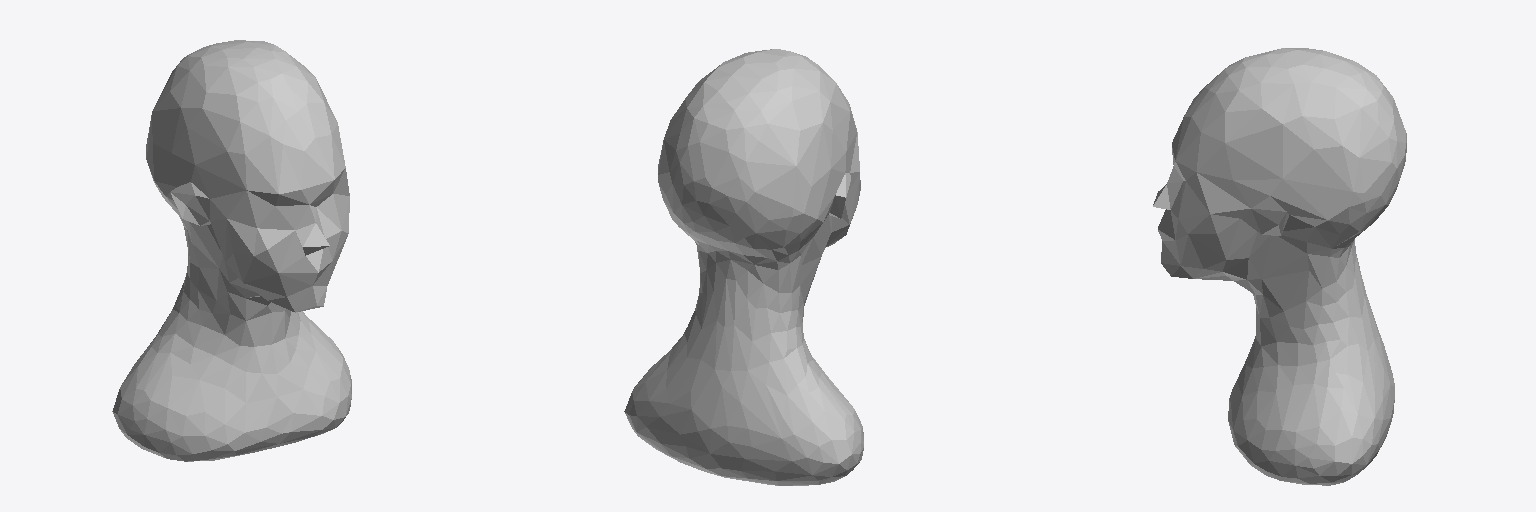
Rendered from headframe.obj.
3 views of the same model, side by side, from view 1: azimuth 30°, elevation 25°; view 2: azimuth 150°, elevation 25°; view 3: azimuth 270°, elevation 25° (orthographic).
Bounding box in the file's own units: 2.16 × 3.67 × 2.14.